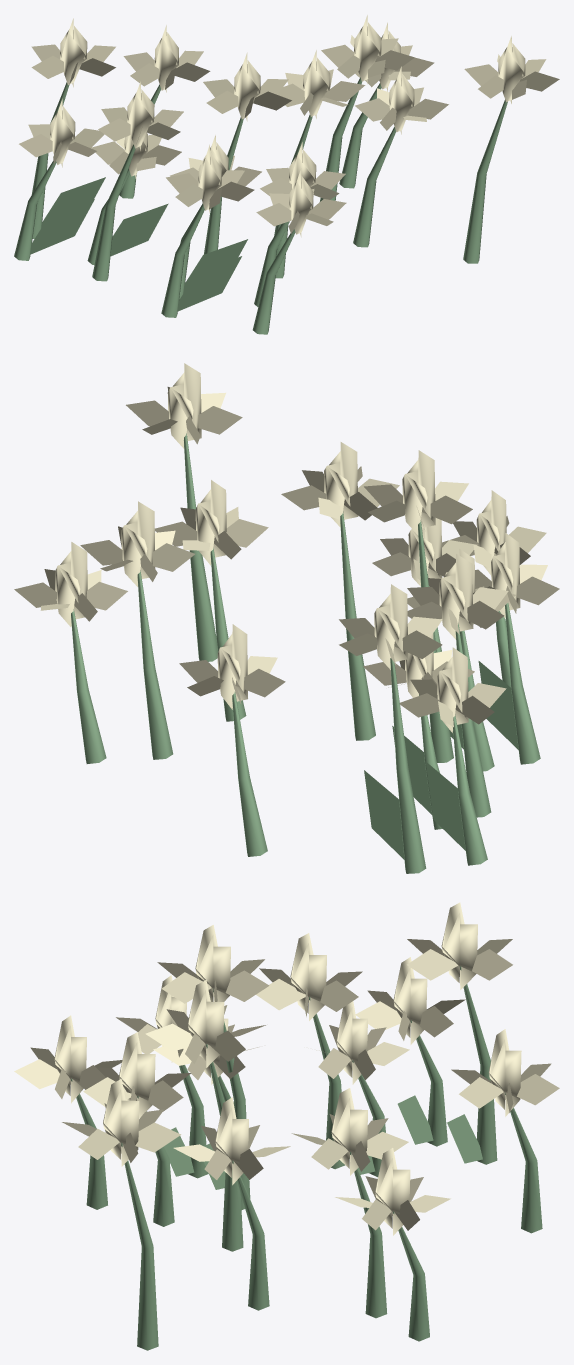
File: flower_ivory.glb
3 renders of one model, top to bottom at view 1: azimuth 30°, elevation 25°; view 2: azimuth 150°, elevation 25°; view 3: azimuth 270°, elevation 25°, orthographic. The views are drawn at different scales.
Visible parts, largest first — view 1: flower_ivory; view 2: flower_ivory; view 3: flower_ivory.
Part boxes in pixels (<box>): flower_ivory: <box>14,15,559,334</box>; flower_ivory: <box>14,363,559,873</box>; flower_ivory: <box>14,902,559,1350</box>.
Bounding box in the file's own units: 1.38 × 0.7618 × 1.25.
